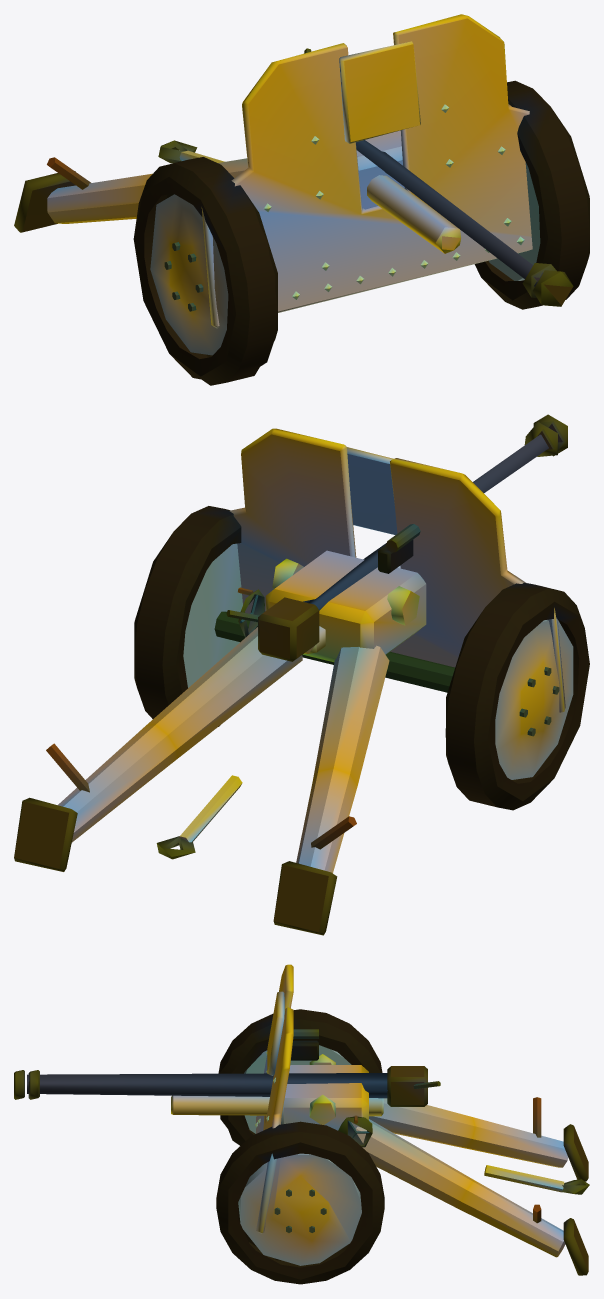
The model's file is artillery_lo.glb.
3 renders of one model, top to bottom at view 1: azimuth 30°, elevation 25°; view 2: azimuth 150°, elevation 25°; view 3: azimuth 270°, elevation 25°, orthographic. The views are drawn at different scales.
Visible parts, largest first — view 1: carriage, barrel; view 2: carriage, barrel; view 3: carriage, barrel.
Boxes of the visible parts, left/top/right/bottom form: carriage: left=14, top=14, right=589, bottom=385; barrel: left=304, top=48, right=573, bottom=306; carriage: left=14, top=428, right=589, bottom=935; barrel: left=226, top=414, right=567, bottom=661; carriage: left=216, top=964, right=589, bottom=1284; barrel: left=14, top=1066, right=440, bottom=1116.
Bounding box in the file's own units: 0.169 × 0.1344 × 0.3116.
